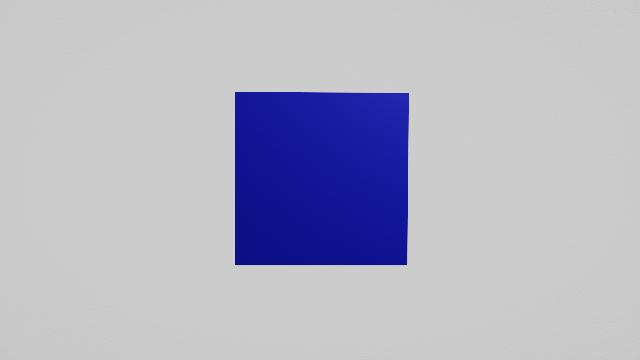Cube: (230, 88, 412, 272)
